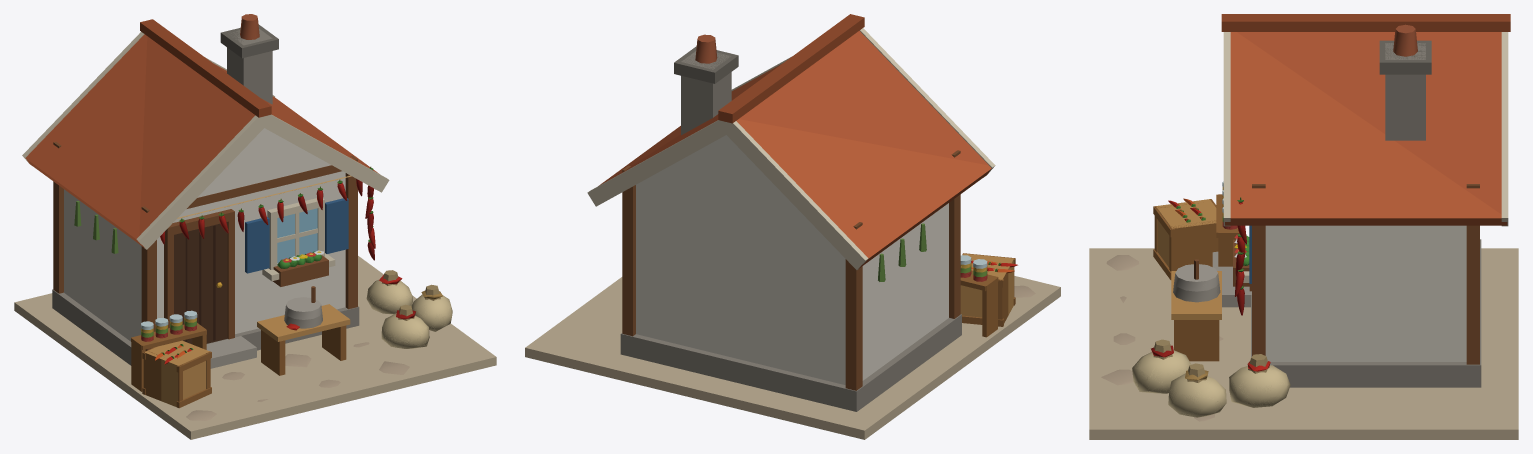
Rendered from spice_mill-w5.glb.
3 renders of one model, left to right at view 1: azimuth 30°, elevation 25°; view 2: azimuth 150°, elevation 25°; view 3: azimuth 270°, elevation 25°, orthographic. The views are drawn at different scales.
Parts seen in each view (by area): view 1: building-spice_mill, building-spice_mill-far; view 2: building-spice_mill; view 3: building-spice_mill, building-spice_mill-far.
Part boxes in pixels (left/top/right/bottom): building-spice_mill: left=14, top=14, right=496, bottom=439; building-spice_mill-far: left=141, top=14, right=452, bottom=420; building-spice_mill: left=525, top=14, right=1060, bottom=439; building-spice_mill: left=1089, top=14, right=1518, bottom=439; building-spice_mill-far: left=1105, top=25, right=1414, bottom=418.
Size of the model in its own units: 3.8 by 3.34 by 3.8.
